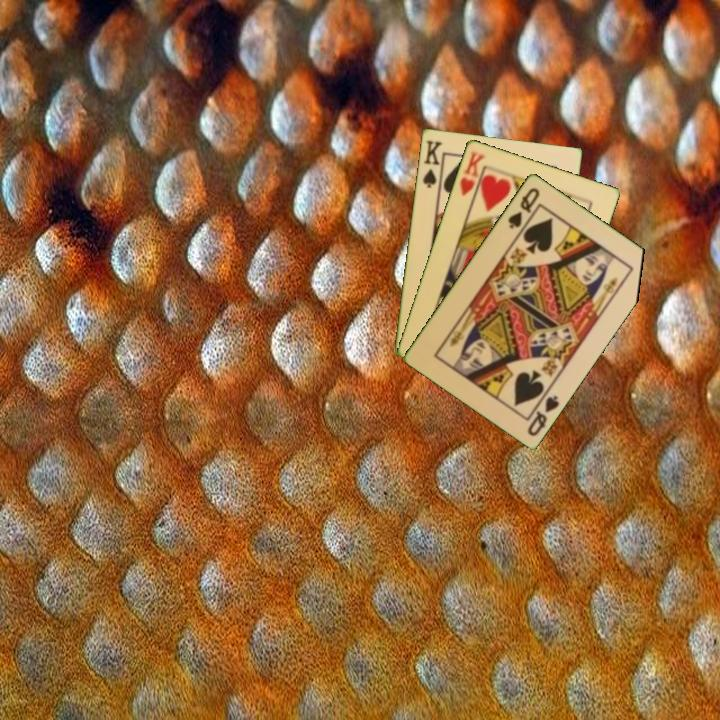Kh: (456, 147, 488, 204)
Ks: (419, 136, 445, 192)
Qs: (504, 184, 543, 231), (524, 391, 562, 439)
